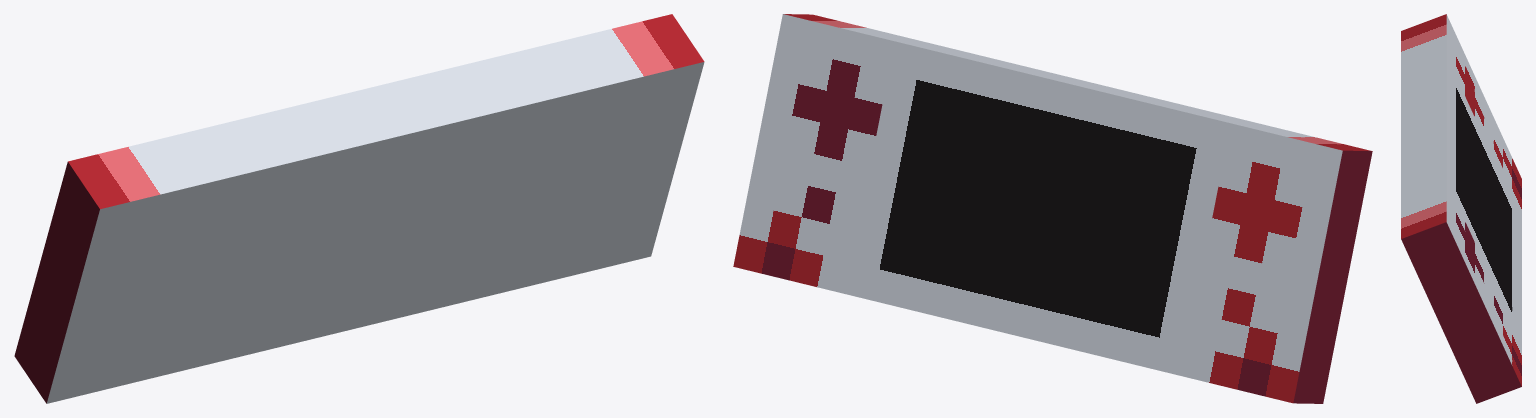
File: item_cleric.gltf
3 renders of one model, left to right at view 1: azimuth 30°, elevation 25°; view 2: azimuth 150°, elevation 25°; view 3: azimuth 270°, elevation 25°, orthographic. The views are drawn at different scales.
Visible parts, largest first — view 1: cube (×3); view 2: cube (×3); view 3: cube (×3).
Part boxes in pixels (x1=…): cube (×3): x1=14, y1=14, x2=704, y2=403; cube (×3): x1=733, y1=14, x2=1372, y2=403; cube (×3): x1=1401, y1=14, x2=1521, y2=403.
Bounding box in the file's own units: 0.625 × 0.2549 × 0.1534.
Materials: 1 (1 with a texture image).
